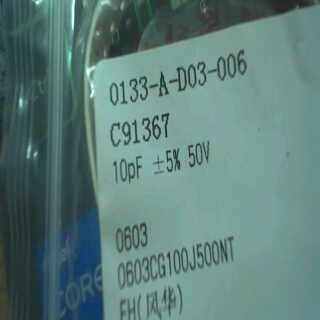10pF: (111, 152, 147, 191)
